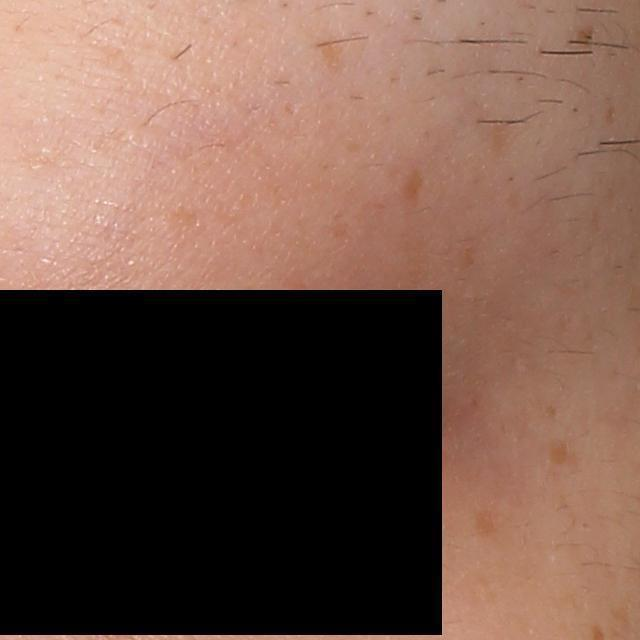melasma: (316, 34, 351, 72), (399, 163, 425, 205), (471, 508, 498, 539), (547, 437, 575, 465)
